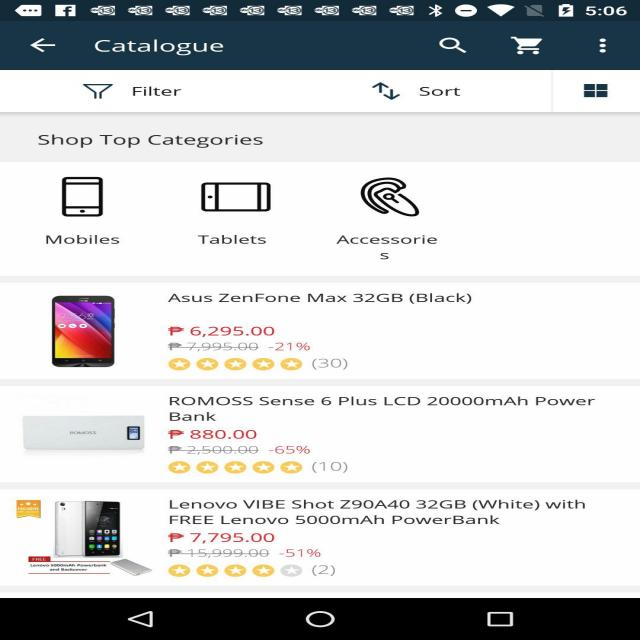button: (27, 35, 254, 64), (78, 82, 220, 114), (359, 85, 494, 112), (565, 76, 624, 111), (406, 36, 472, 62), (498, 38, 562, 60), (590, 37, 625, 59)
icon: (299, 172, 471, 261), (173, 170, 298, 262), (38, 170, 147, 250), (162, 456, 365, 478), (161, 354, 368, 375), (171, 558, 339, 583)
image: (0, 480, 158, 592), (8, 279, 143, 372), (14, 402, 158, 470)
text: (177, 389, 608, 458), (170, 490, 605, 557), (165, 320, 346, 353), (163, 298, 492, 304)
